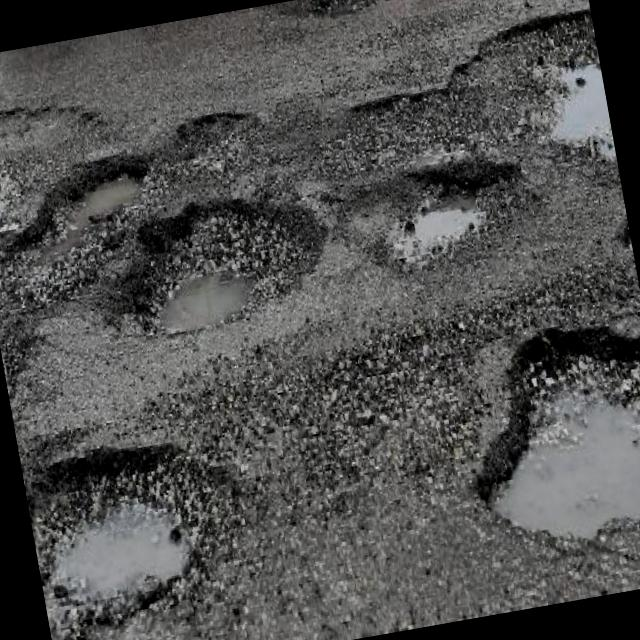Lubang: (352, 10, 599, 185), (26, 439, 238, 623), (479, 326, 640, 536), (104, 201, 324, 334), (0, 153, 151, 310), (387, 157, 520, 261), (0, 105, 110, 166), (167, 110, 259, 162)
